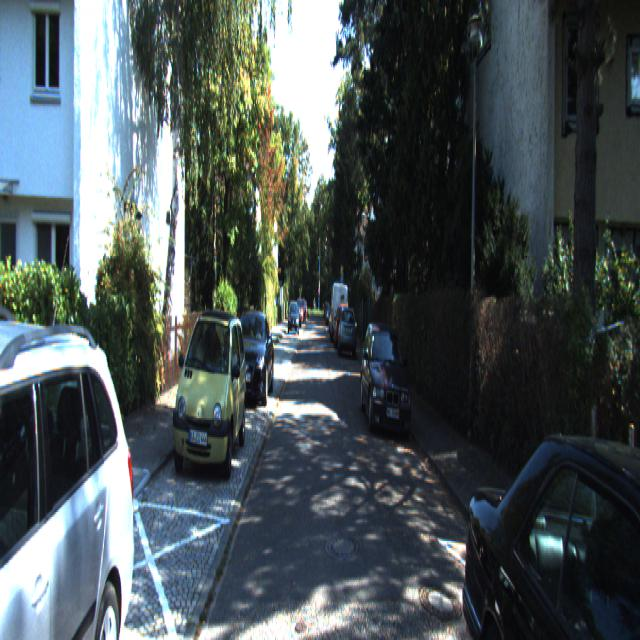Car: (454, 376, 639, 638), (0, 302, 143, 638), (173, 309, 247, 485), (359, 316, 413, 438), (229, 306, 273, 407), (330, 281, 349, 344), (338, 304, 356, 358)
